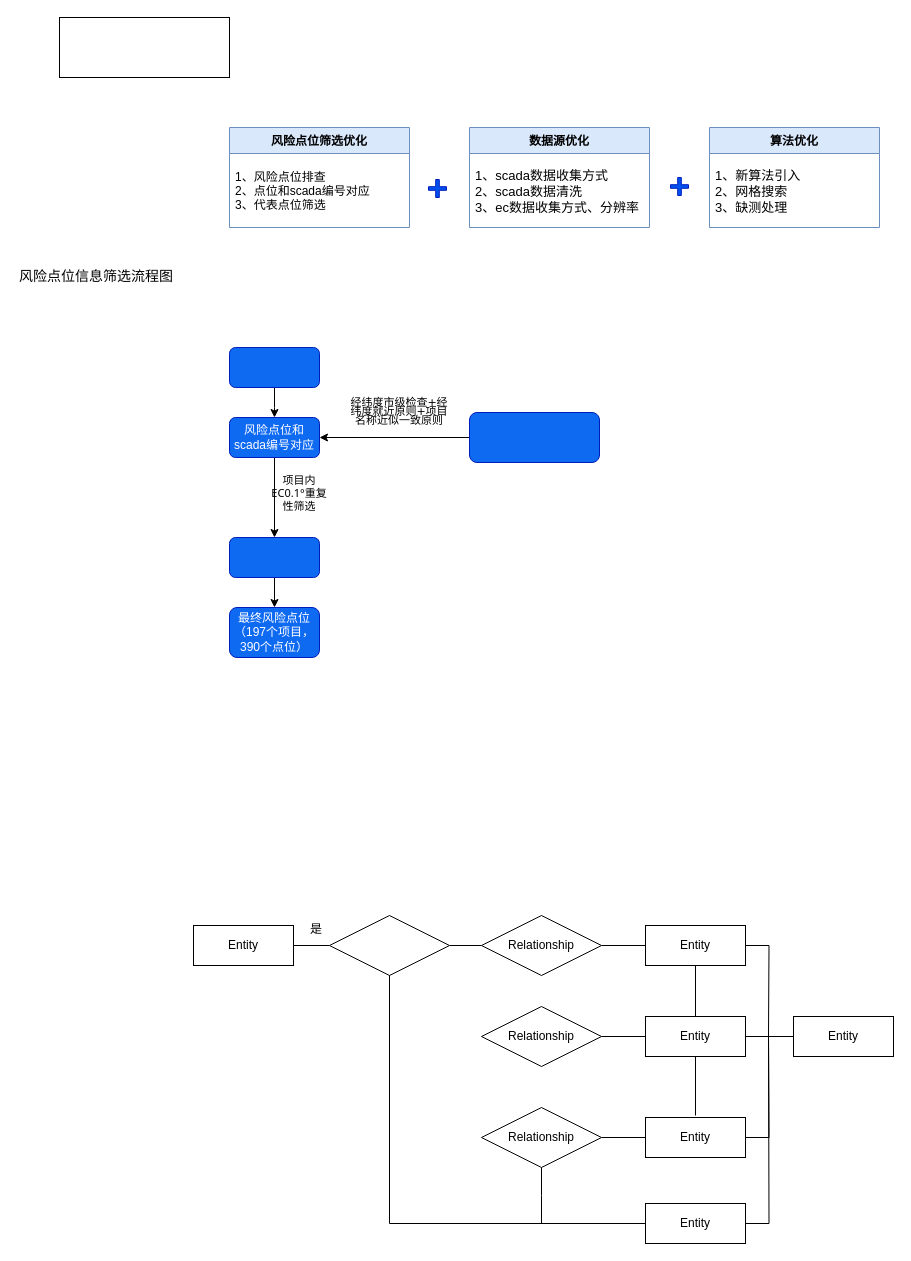
This 911x1261 diagram has some shape labels left out. Here are the shapes that lost their labels. From the top down, the centre of each, then its label:
the point at 144,47: 已运行风电场技术优化路线
the point at 274,367: 风险点位排查
the point at 534,437: 机组信息表(FCC系统导出+scada信息回传清单
the point at 274,557: 代表点位筛选
the point at 389,945: 气象判据
